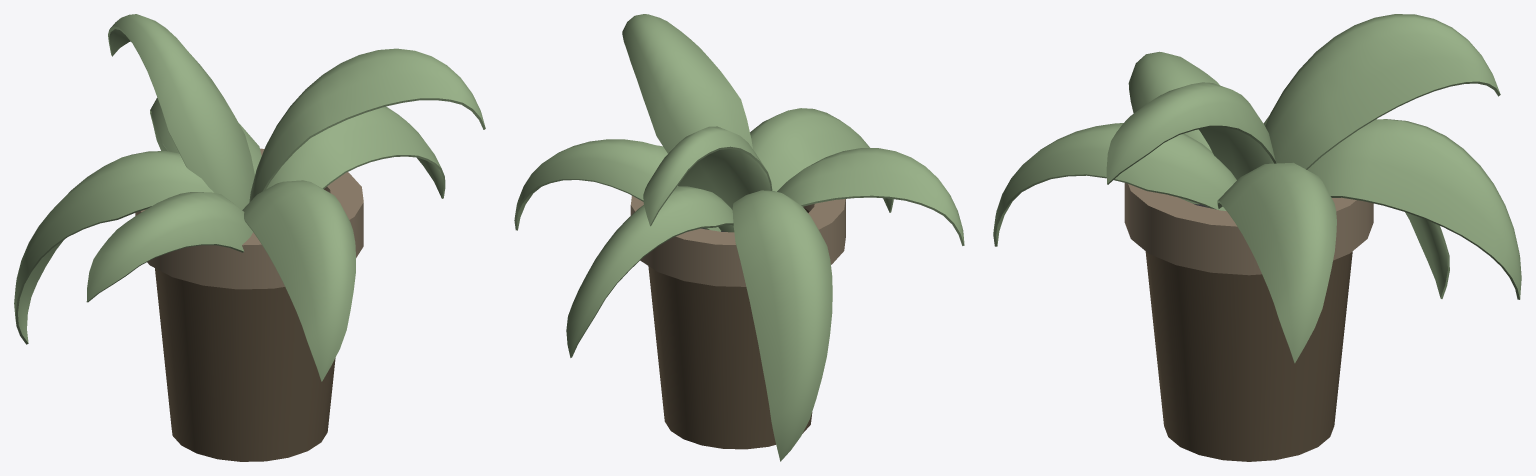
Rendered from colored plant livingroom.fbx.
3 views of the same model, side by side, from view 1: azimuth 30°, elevation 25°; view 2: azimuth 150°, elevation 25°; view 3: azimuth 270°, elevation 25° (orthographic). The views are drawn at different scales.
Visible parts, largest first — view 1: polySurface7, polySurface5, polySurface4; view 2: polySurface7, polySurface5, polySurface4; view 3: polySurface7, polySurface5, polySurface4.
Part boxes in pixels (x1=…): polySurface7: x1=14, y1=14, x2=485, y2=381; polySurface5: x1=155, y1=268, x2=335, y2=461; polySurface4: x1=135, y1=148, x2=363, y2=289; polySurface7: x1=514, y1=14, x2=964, y2=461; polySurface5: x1=648, y1=207, x2=812, y2=449; polySurface4: x1=630, y1=196, x2=845, y2=286; polySurface7: x1=993, y1=14, x2=1521, y2=363; polySurface5: x1=1145, y1=251, x2=1352, y2=461; polySurface4: x1=1124, y1=183, x2=1373, y2=275.
Bounding box in the file's own units: 0.5943 × 0.5017 × 0.6022.
